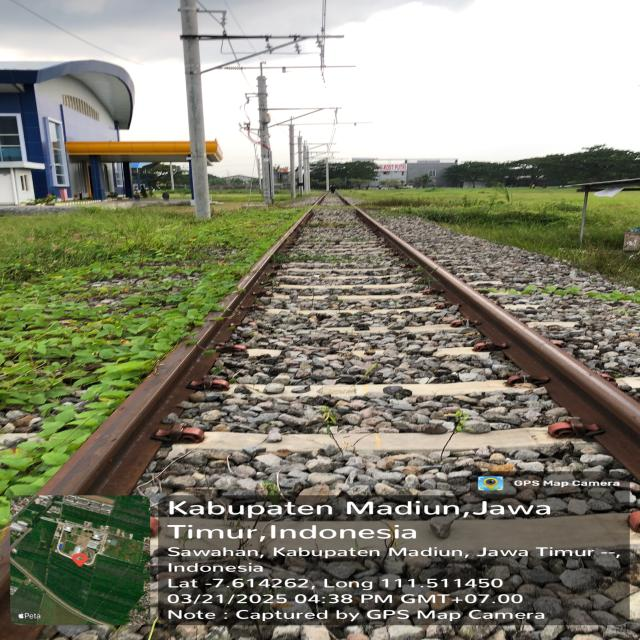rail-detection: (41, 211, 313, 494), (355, 209, 640, 479)
